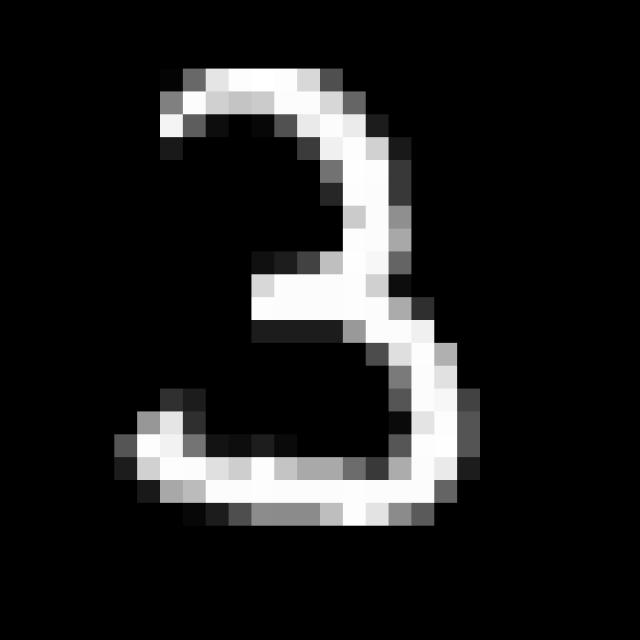three -3-: (112, 57, 485, 542)
